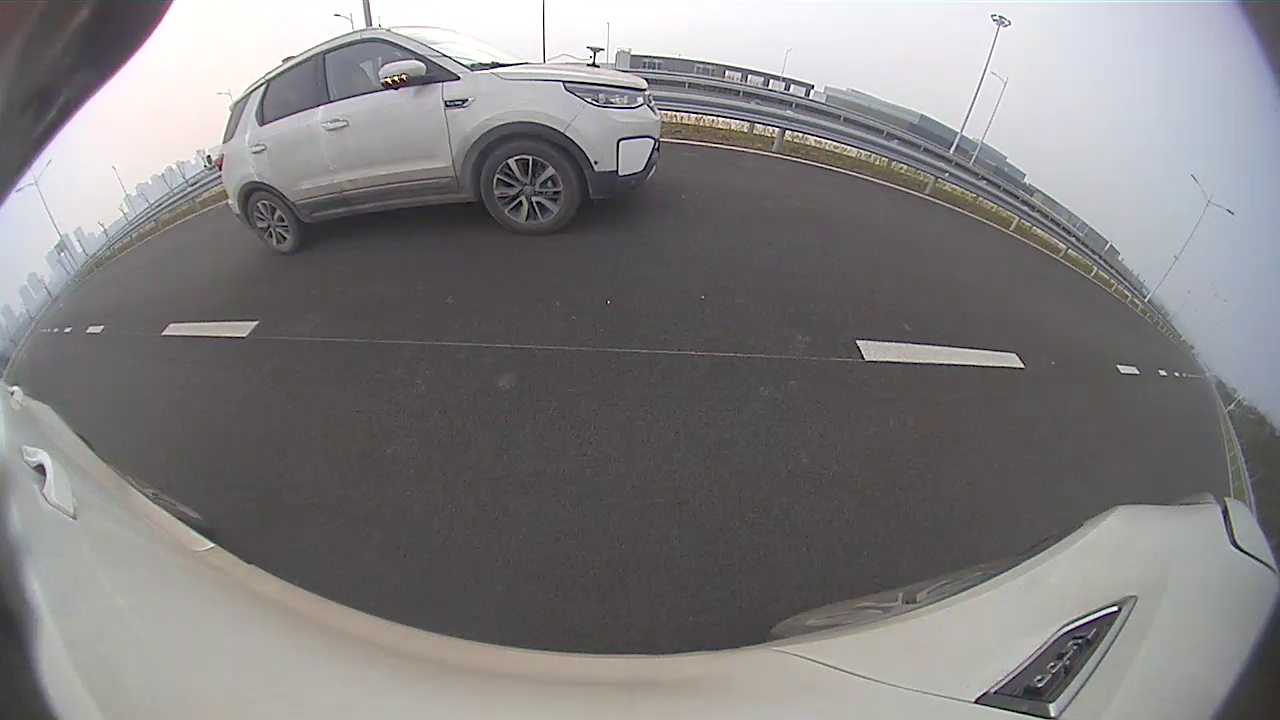car: (214, 27, 662, 256)
front: (479, 142, 580, 238)
rear: (247, 194, 301, 257)
